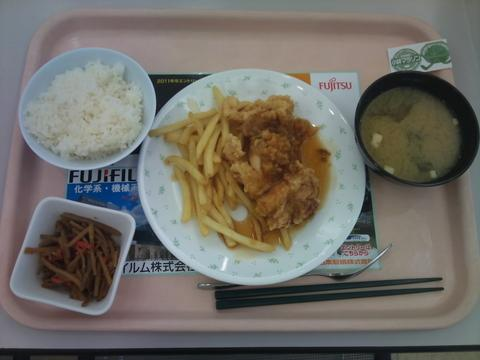rice: (26, 62, 141, 159)
